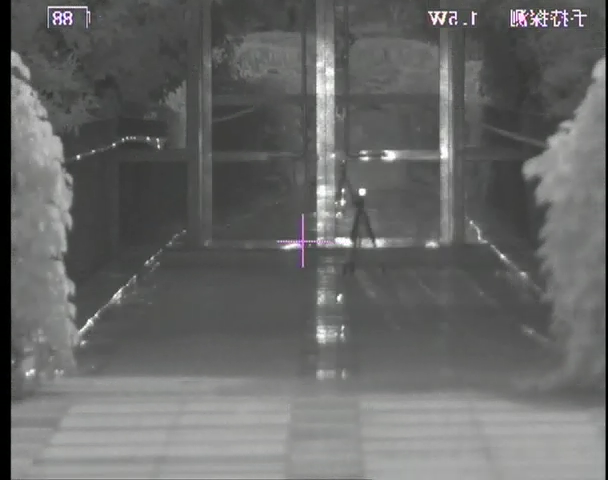my: (357, 186, 368, 198)
